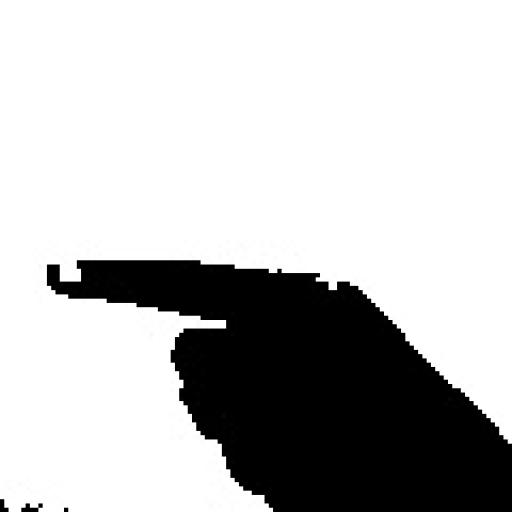index_left: (45, 255, 512, 459)
